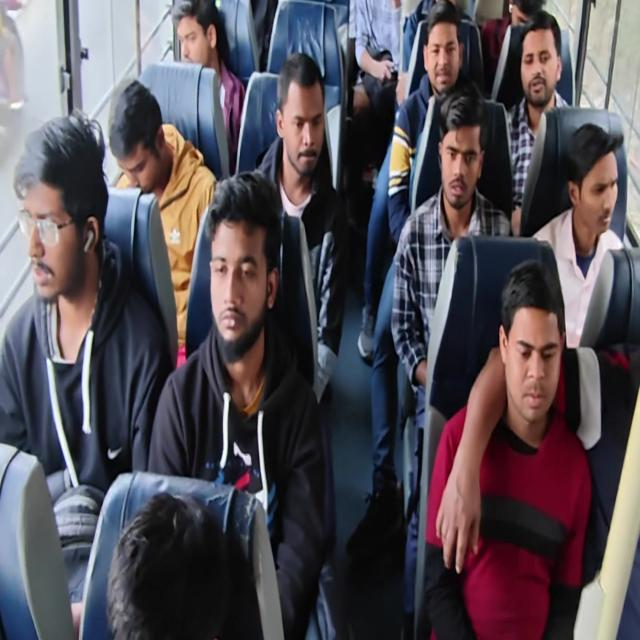person: (8, 123, 106, 315), (117, 514, 262, 640), (500, 253, 575, 445), (200, 177, 277, 359), (109, 88, 178, 202), (276, 62, 330, 176), (570, 125, 622, 240), (161, 0, 224, 83), (439, 101, 485, 206), (422, 17, 467, 91), (522, 18, 558, 109), (501, 0, 547, 46)
